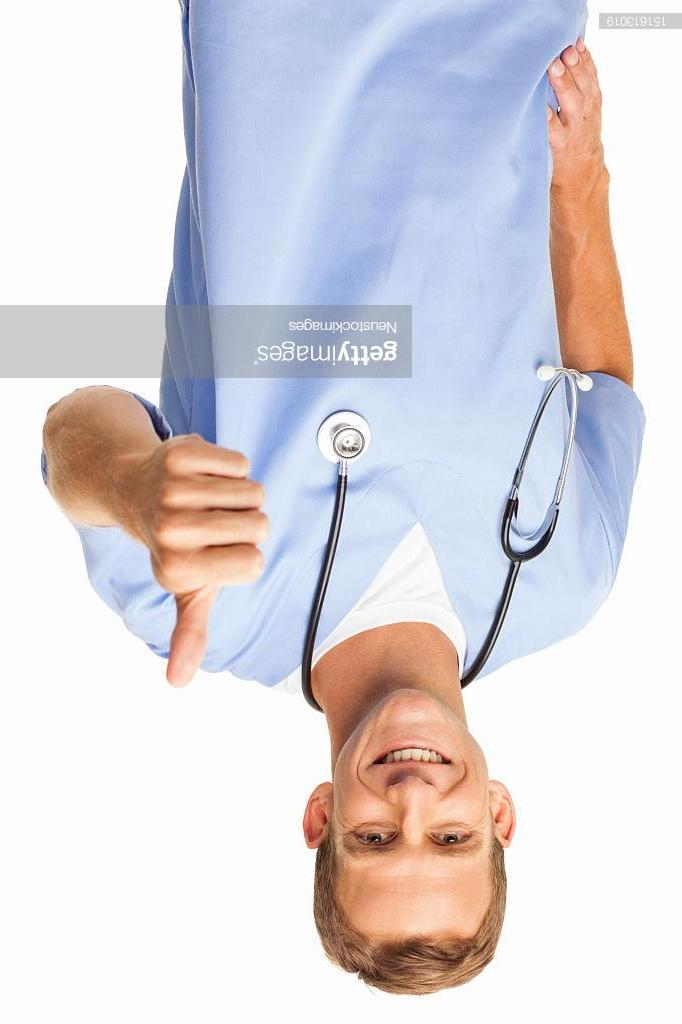thumbsdown: (151, 437, 272, 689)
